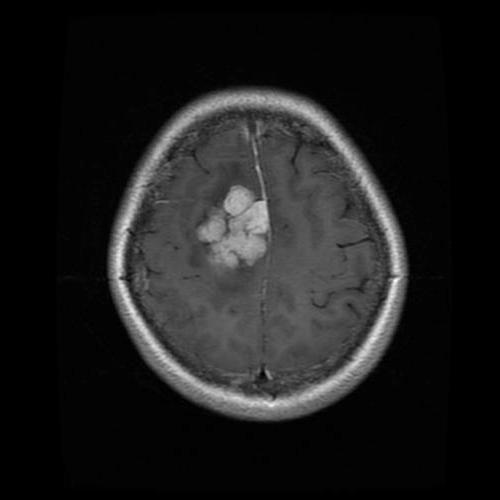Tumour-Meningioma: (180, 178, 278, 299)
